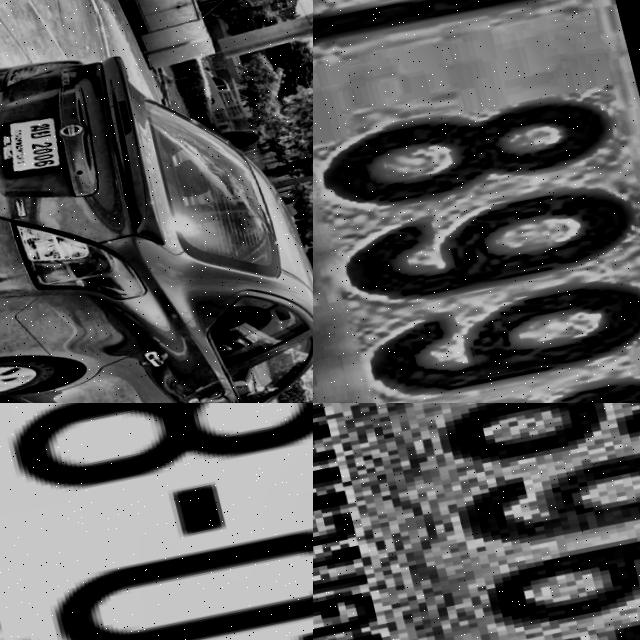license-plate: (313, 0, 640, 403), (313, 403, 640, 640), (0, 403, 313, 640), (0, 96, 78, 192)
